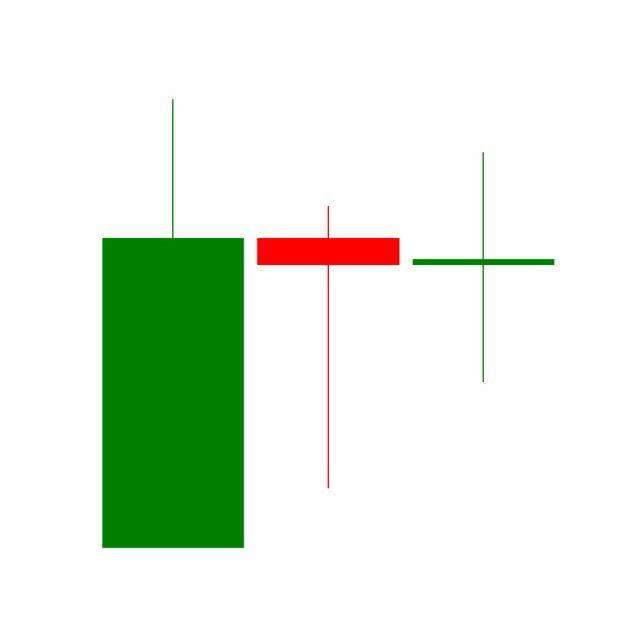Spinning Top: (250, 203, 407, 493)
